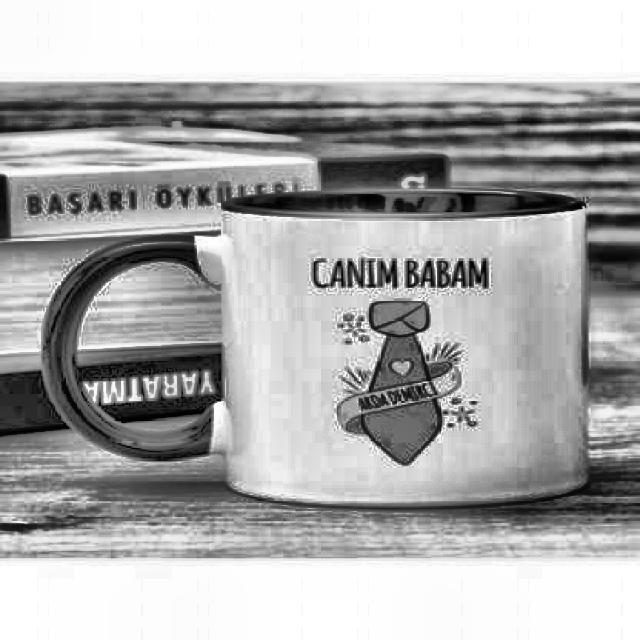Mug: (36, 188, 589, 509)
